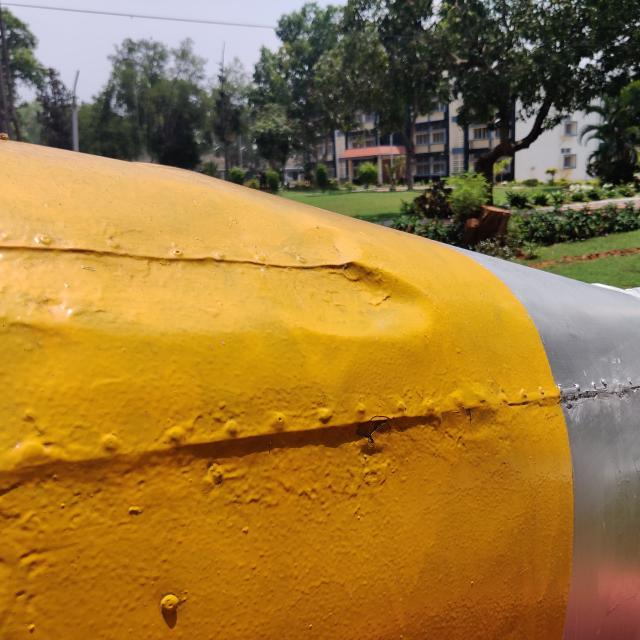dent: (280, 243, 454, 365)
